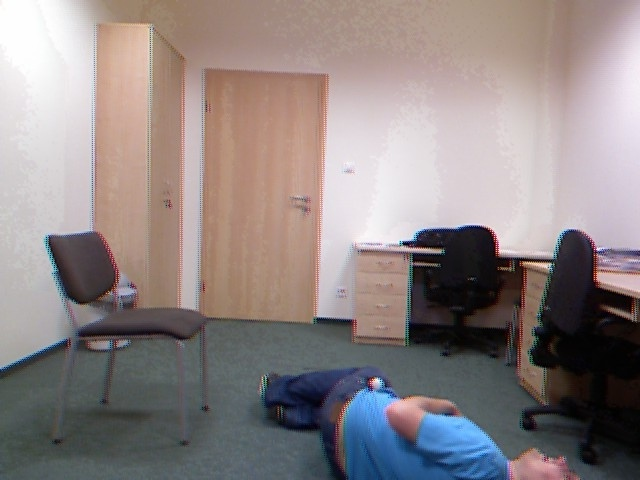fall: (230, 348, 599, 480)
